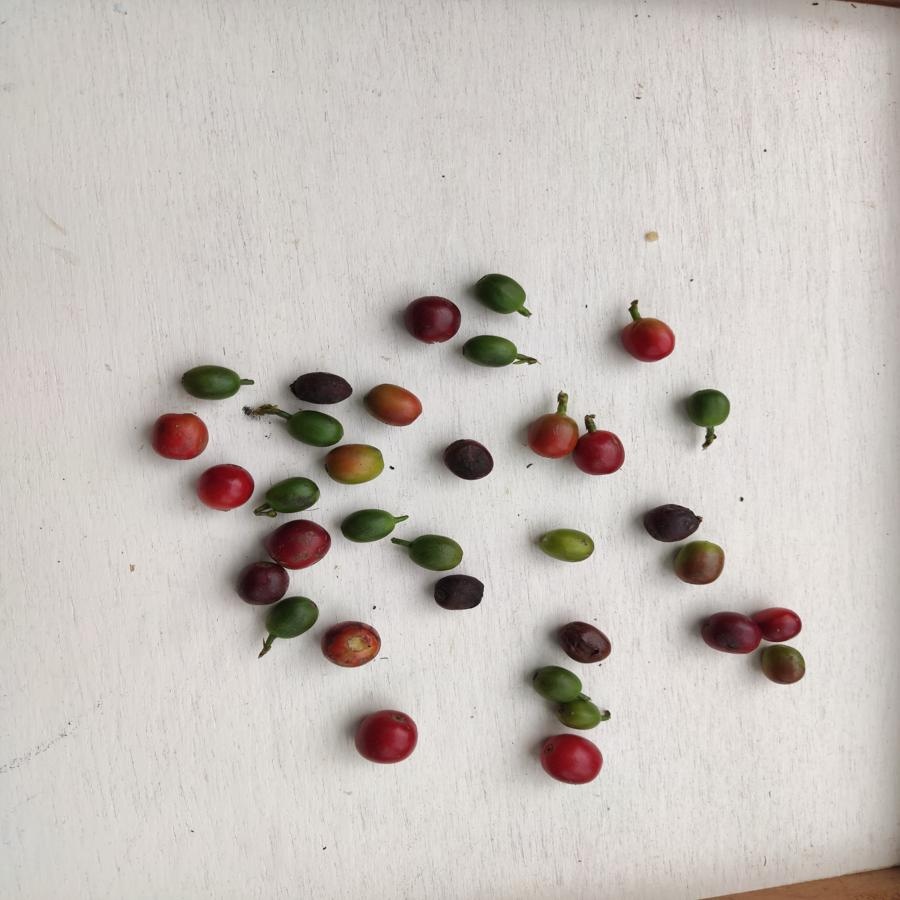Inmaduro: (472, 270, 527, 315), (406, 533, 469, 572), (528, 664, 586, 706), (266, 597, 320, 642), (287, 409, 345, 450), (178, 363, 242, 400), (262, 477, 321, 516), (337, 508, 396, 542), (683, 389, 734, 428), (460, 334, 519, 367), (553, 695, 603, 730)
Maduro: (355, 707, 421, 767), (536, 732, 606, 786), (320, 618, 390, 672), (617, 314, 678, 368), (146, 408, 208, 458), (198, 462, 255, 511), (571, 427, 629, 475), (527, 411, 581, 457)
Pinton: (320, 442, 386, 486), (363, 380, 423, 424), (673, 539, 727, 585), (756, 642, 807, 686), (536, 528, 597, 561)
Sobremaduro: (265, 520, 337, 567), (696, 611, 762, 660), (404, 293, 464, 345), (287, 367, 352, 408), (557, 617, 612, 663), (644, 499, 702, 542), (236, 558, 288, 604), (432, 572, 487, 614), (442, 437, 496, 479), (752, 602, 808, 639)
